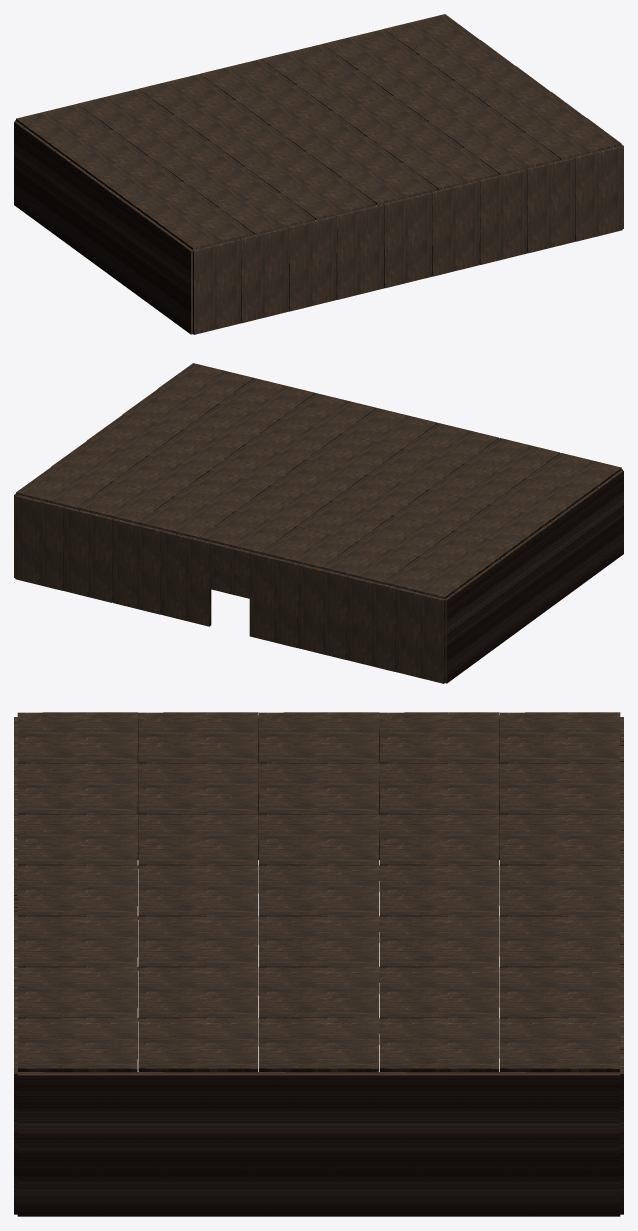
The model's file is int-shell-warehouse-a.glb.
3 views of the same model, one above another, from view 1: azimuth 30°, elevation 25°; view 2: azimuth 150°, elevation 25°; view 3: azimuth 270°, elevation 25° (orthographic). The views are drawn at different scales.
Visible parts, largest first — view 1: ceiling_backing_00_00; view 2: ceiling_backing_00_00; view 3: ceiling_backing_00_00.
Boxes of the visible parts, bbox=[...] form: ceiling_backing_00_00: bbox=[14, 14, 623, 334]; ceiling_backing_00_00: bbox=[14, 363, 623, 683]; ceiling_backing_00_00: bbox=[14, 712, 623, 1216].
Bounding box in the file's own units: 28.24 × 5.36 × 20.24.
2 materials, 2 textured.
